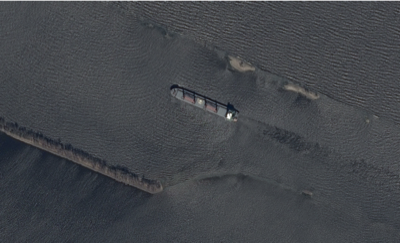boat: (170, 87, 240, 123)
